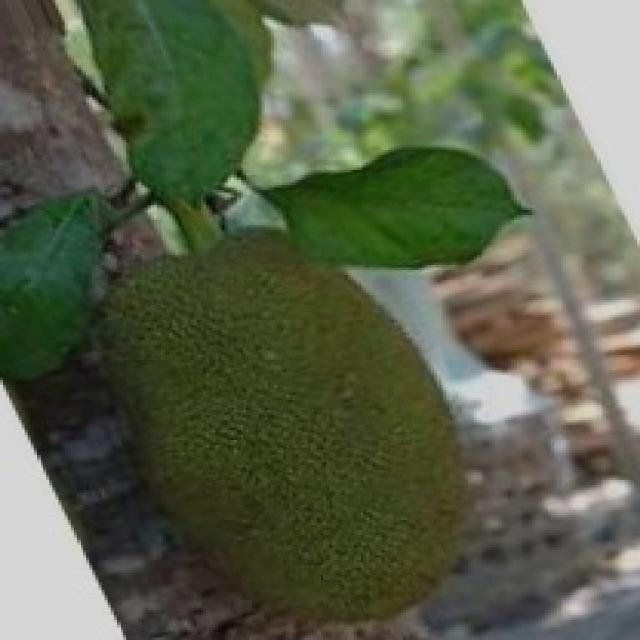Fruit: (178, 235, 517, 640)
